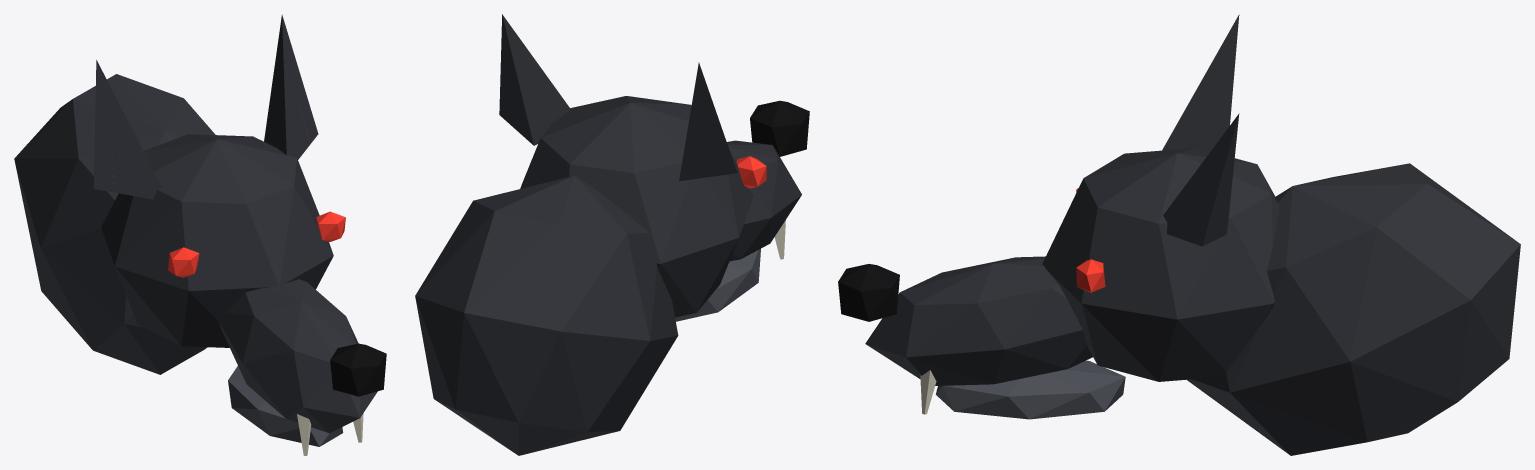
File: wolf_1_head.glb
3 renders of one model, left to right at view 1: azimuth 30°, elevation 25°; view 2: azimuth 150°, elevation 25°; view 3: azimuth 270°, elevation 25°, orthographic. The views are drawn at different scales.
Visible parts, largest first — view 1: wolf_1_head; view 2: wolf_1_head; view 3: wolf_1_head.
Part boxes in pixels (box(x1,y1,x2,y2)): wolf_1_head: box(14, 14, 386, 455); wolf_1_head: box(415, 14, 809, 455); wolf_1_head: box(838, 14, 1520, 455).
Size of the model in its own units: 0.23 by 0.3387 by 0.5533.
